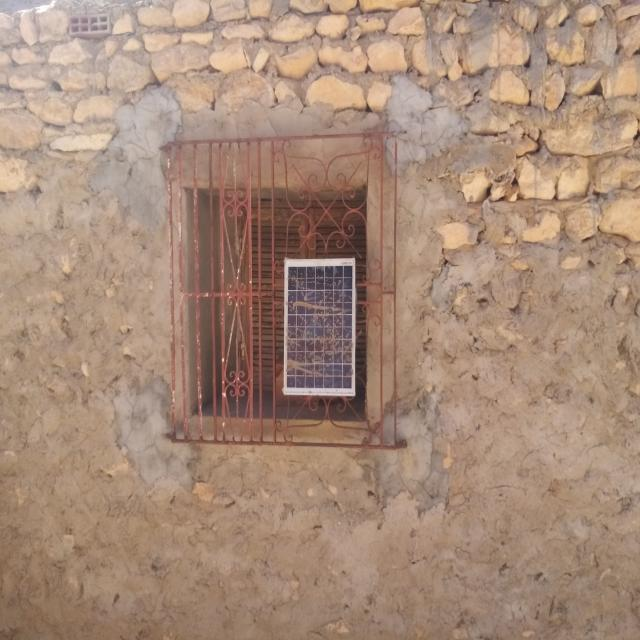faulty: (284, 259, 355, 395)
